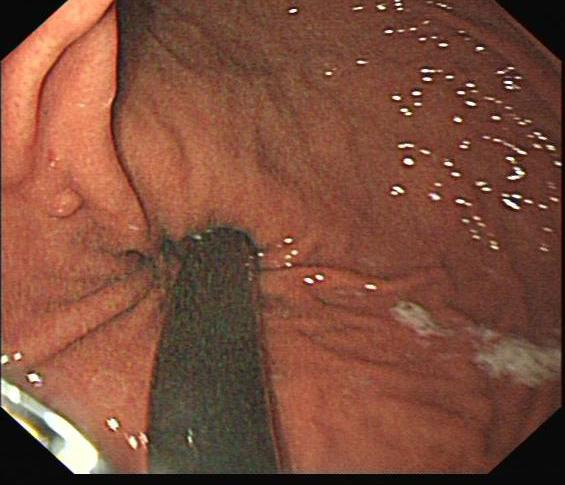Polyp: (41, 169, 96, 225)
